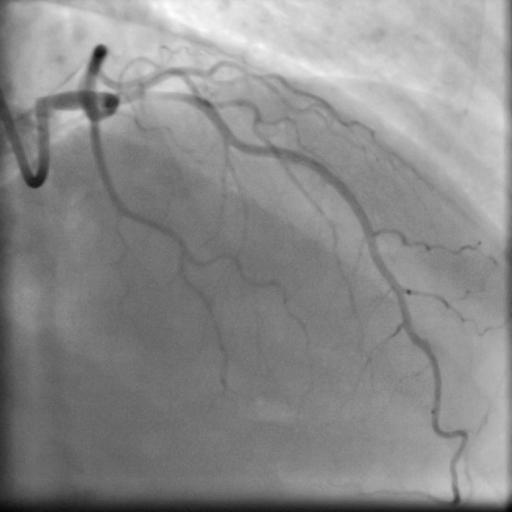Stenosis: (141, 86, 192, 107)
